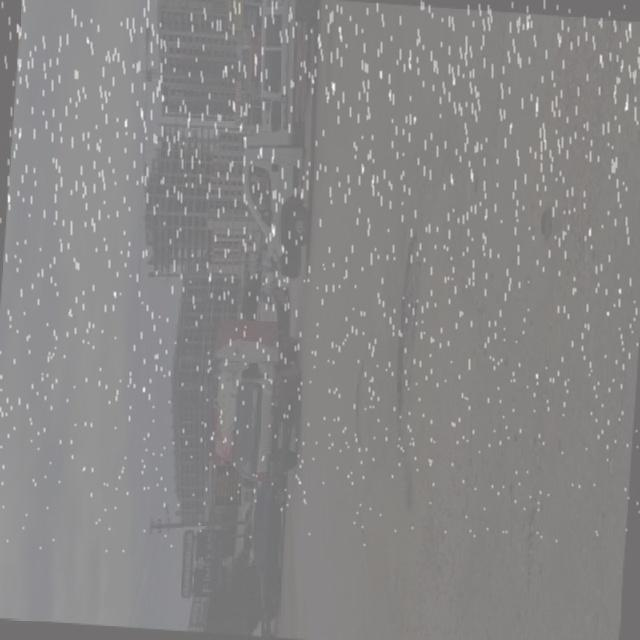Pothole: (389, 231, 435, 532), (344, 366, 369, 465), (538, 209, 560, 248)
